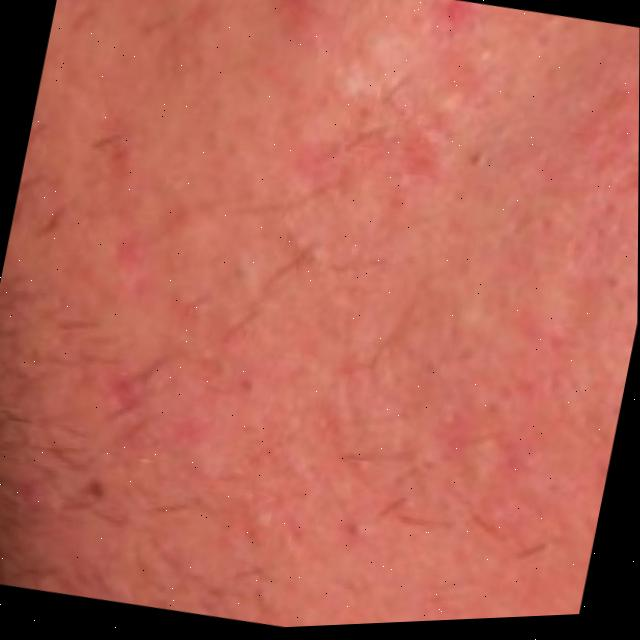Acne: (48, 0, 631, 638)
